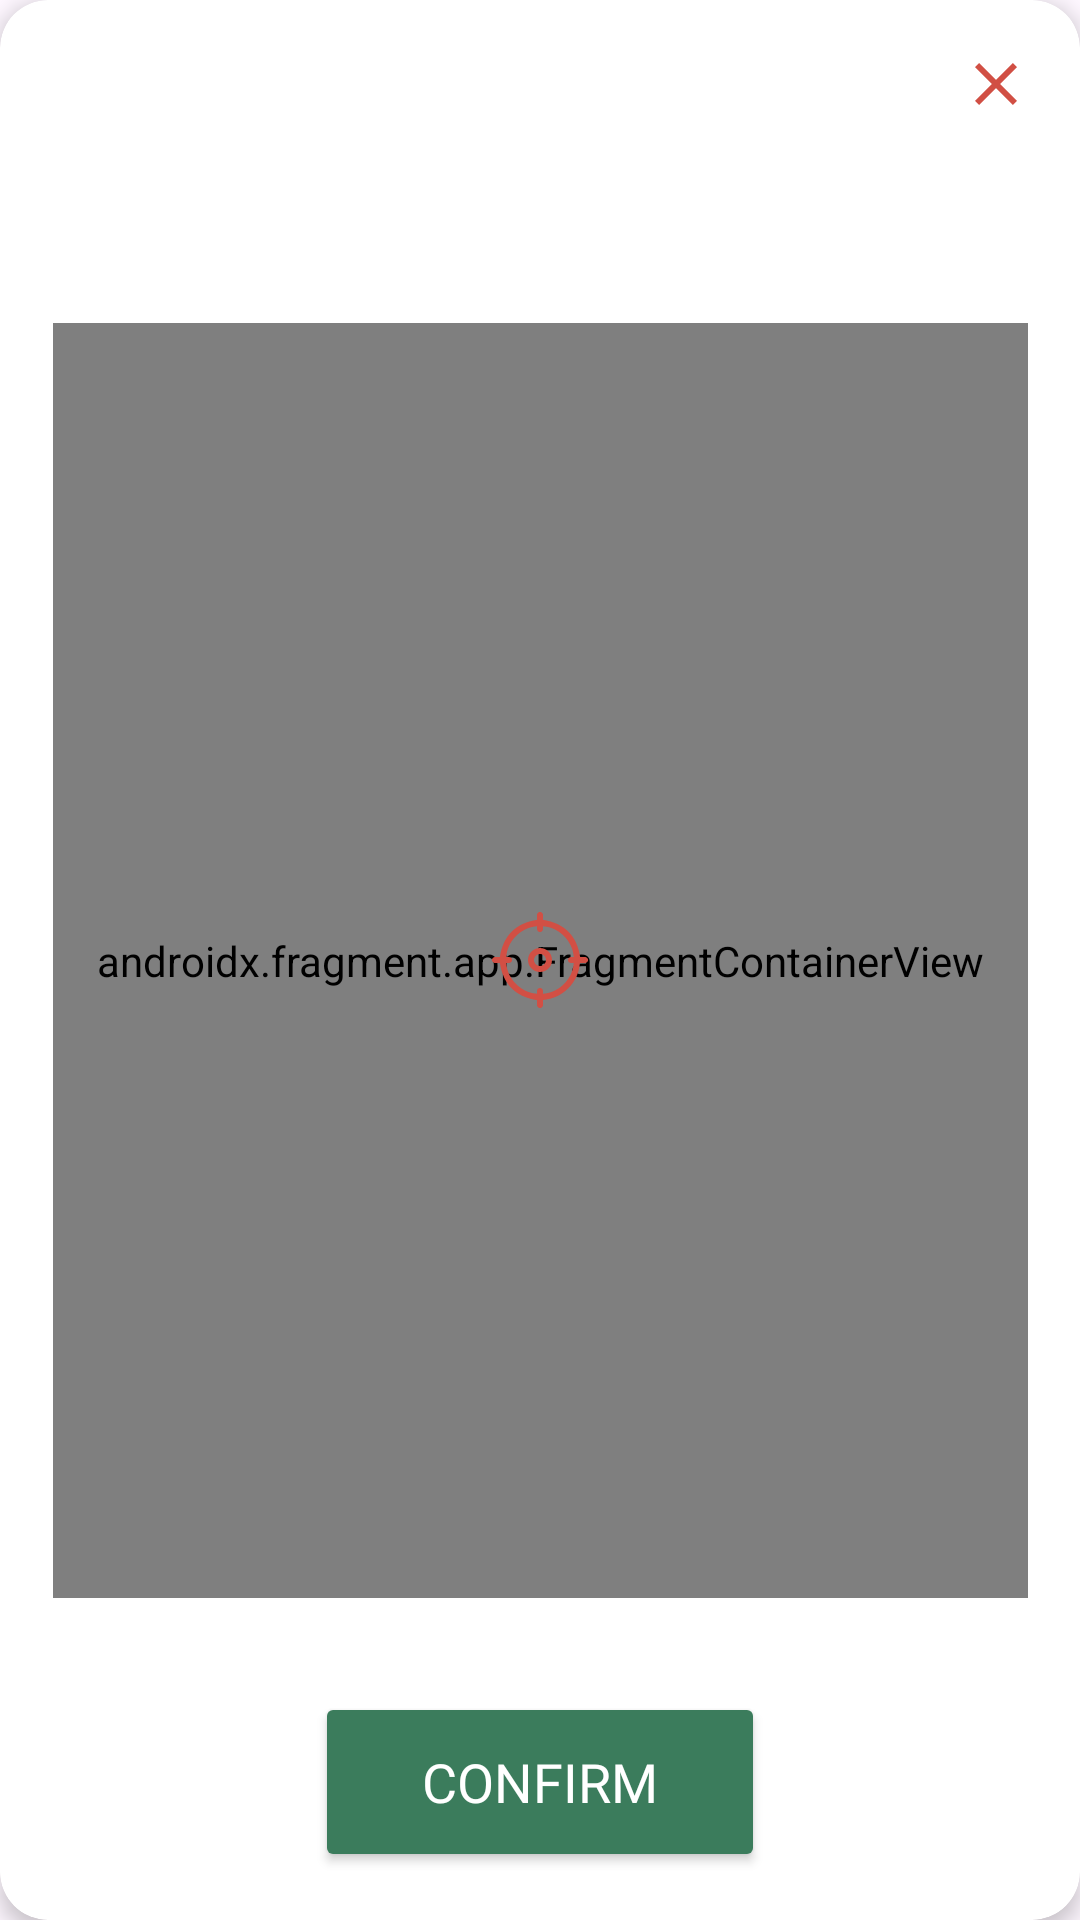

Point at icon controls on the screen. Image size 1080x1920, points as (x,y).
Close: (996,84)
